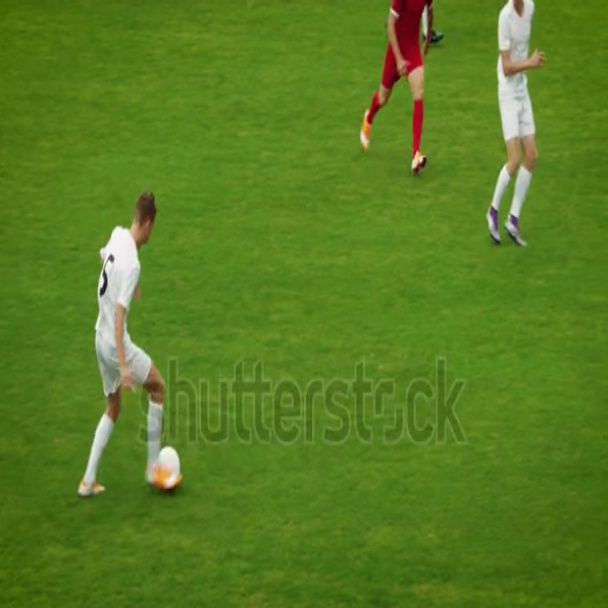ball: (152, 444, 184, 493)
